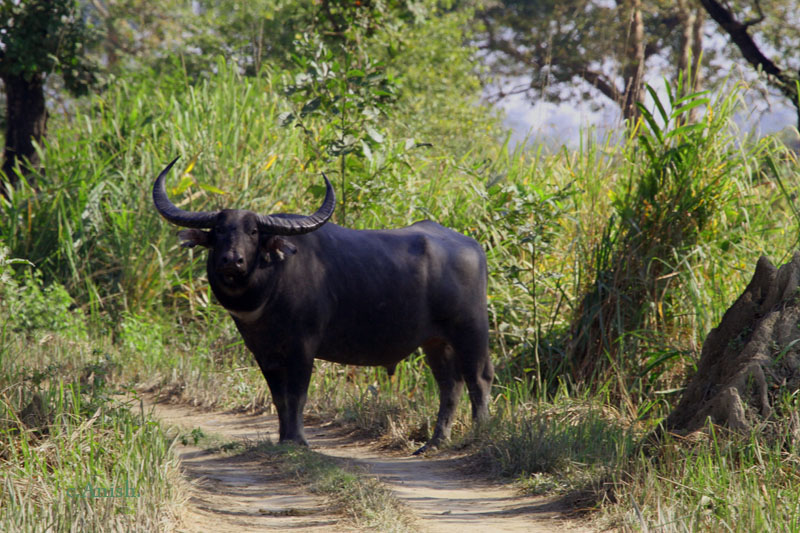buffalo: (150, 155, 508, 455)
